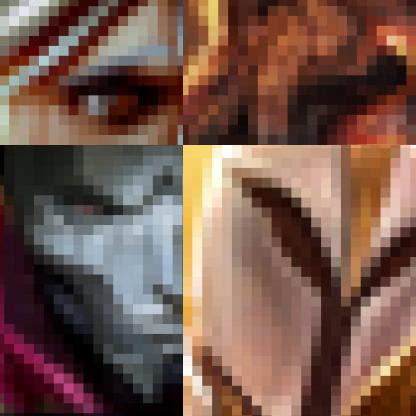Brand: (183, 0, 415, 144)
Jhin: (0, 145, 182, 415)
Kayle: (183, 145, 415, 415)
Riven: (0, 0, 182, 144)
